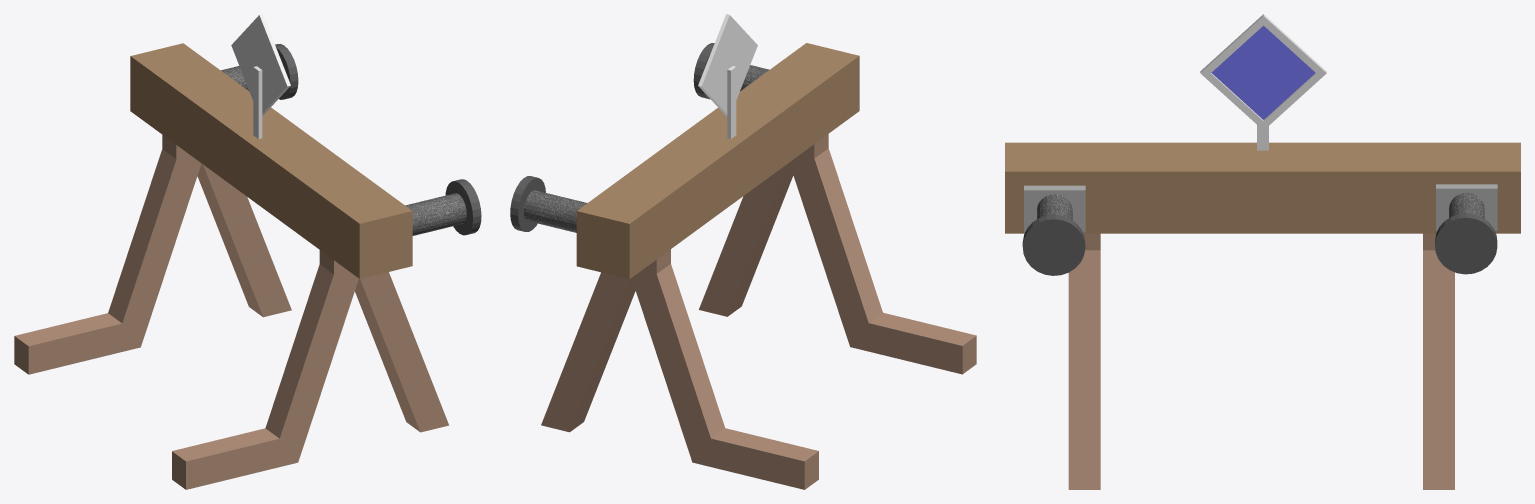
Rendered from zarazedlo.glb.
The picture shows the model from 3 angles, left to right: view 1: azimuth 30°, elevation 25°; view 2: azimuth 150°, elevation 25°; view 3: azimuth 270°, elevation 25°; orthographic projection. The views are drawn at different scales.
Visible parts, largest first — view 1: zarazedlo; view 2: zarazedlo; view 3: zarazedlo.
Part boxes in pixels (x1,y1,x2,y2): zarazedlo: (14,14,481,489); zarazedlo: (510,14,976,489); zarazedlo: (1005,14,1520,489).
Size of the model in its own units: 1.52 by 1.97 by 2.19.
